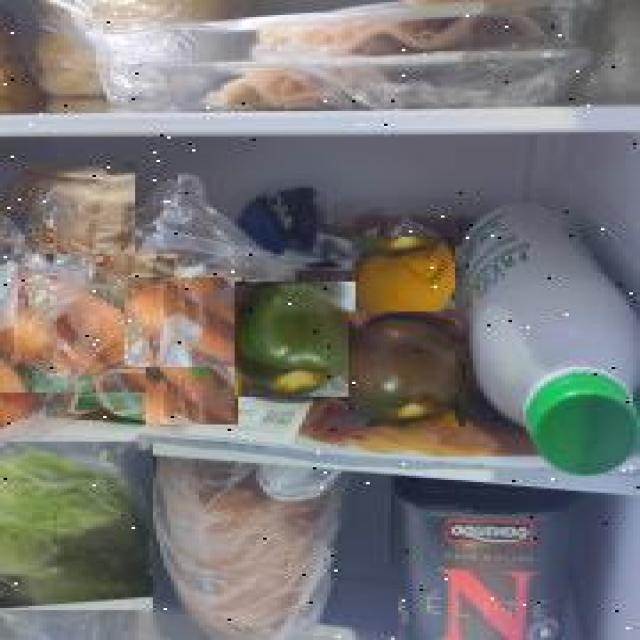bread: (0, 162, 135, 337)
carrot: (0, 254, 178, 392), (124, 277, 246, 367), (146, 320, 238, 425), (4, 381, 46, 423)
lemon: (352, 238, 455, 332)
milk: (455, 200, 640, 476)
salad: (0, 442, 153, 610)
tomato: (234, 282, 356, 396), (348, 312, 466, 426)
